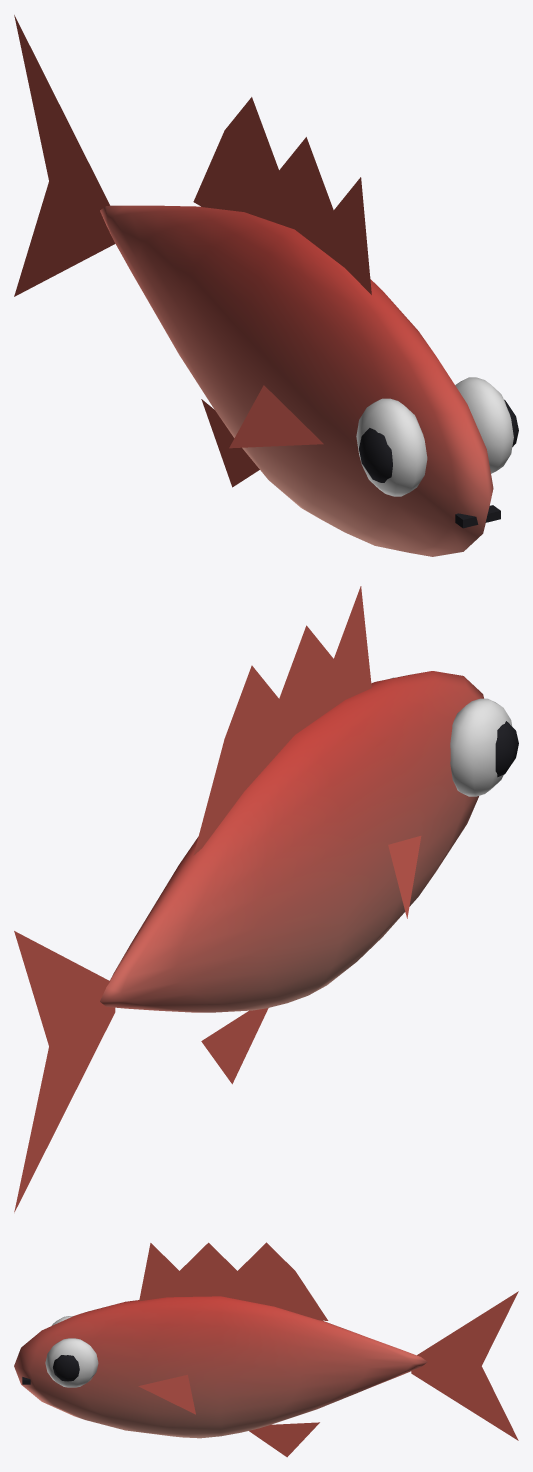
File: schnapper.glb
3 renders of one model, top to bottom at view 1: azimuth 30°, elevation 25°; view 2: azimuth 150°, elevation 25°; view 3: azimuth 270°, elevation 25°, orthographic. The views are drawn at different scales.
Parts seen in each view (by area): view 1: schnapper; view 2: schnapper; view 3: schnapper.
Boxes of the visible parts, x1,y1,x2,y2 form: schnapper: (14, 15, 518, 556); schnapper: (14, 586, 518, 1212); schnapper: (14, 1242, 518, 1457).
Bounding box in the file's own units: 0.264 × 0.5732 × 1.22.
